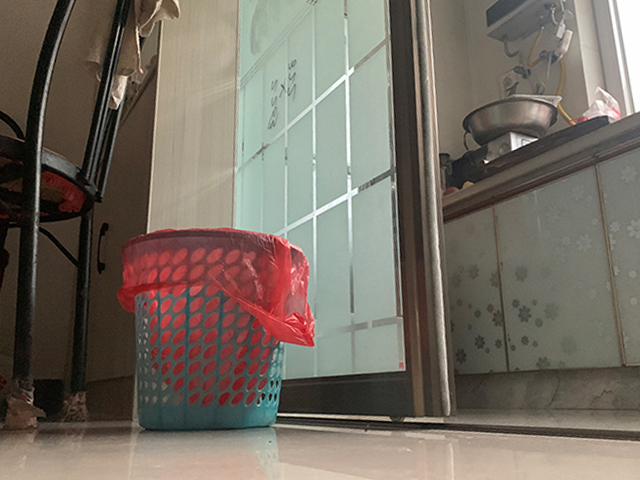cabinet: (441, 110, 640, 411)
table: (1, 1, 138, 429)
trashcan: (122, 229, 307, 430)
